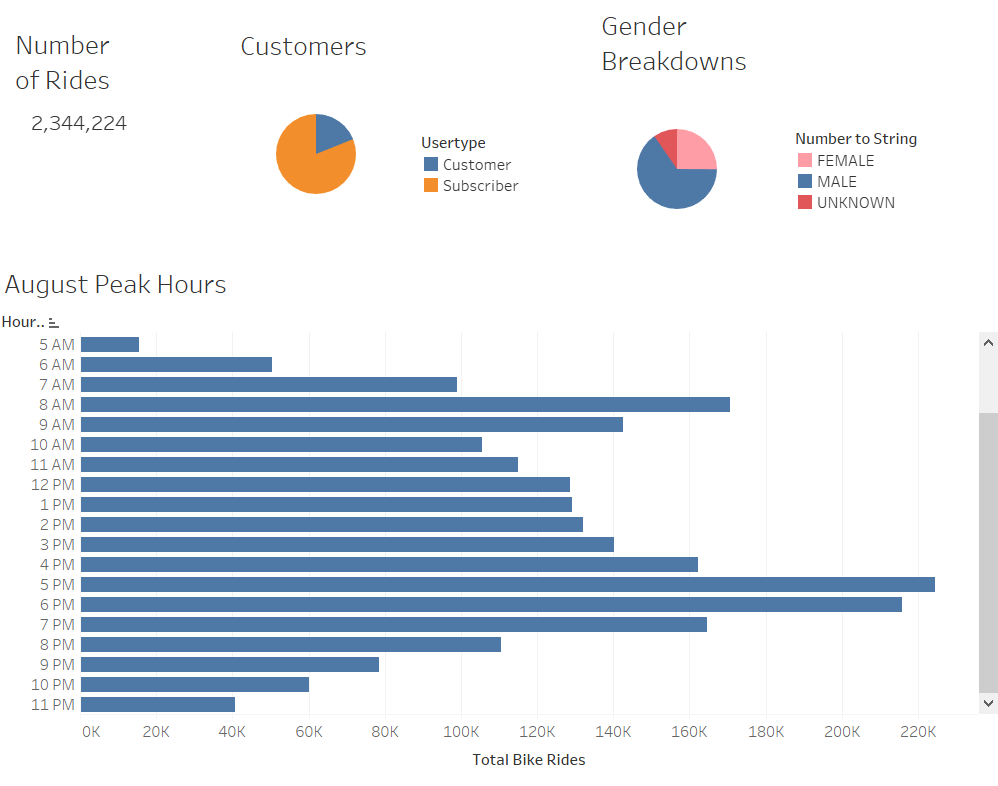

The dashboard page shown, as its layout file describes it:
{"tool":"tableau","page":{"name":"NYC Citi Bike","canvas":[1000,800],"ordinal":0},"visuals":[{"type":"worksheet","title":"August Peak Hours","mark":"Bar","rows":["starttime"],"cols":["dev1.csv_BA9C22B0E2424A87835480C587EEEB83"],"box":[6,11,999,515]},{"type":"worksheet","title":"Gender Breakdowns","mark":"Pie","box":[610,532,333,266]},{"type":"worksheet","title":"Customers","mark":"Pie","box":[238,555,255,224]},{"type":"worksheet","title":"Number of Rides","mark":"Automatic","box":[17,559,212,128]},{"type":"worksheet","title":"Gender Breakdowns","mark":"Pie","param":"[federated.1rkk1j615bv29d116gdp216prjjd].[none:Calculation_537617242172862464:nk","box":[797,645,150,94]},{"type":"worksheet","title":"Customers","mark":"Pie","param":"[federated.1rkk1j615bv29d116gdp216prjjd].[none:usertype:nk]","box":[417,648,140,64]}]}

Visuals, with their boxes in screenshot pixels (x1, y1, x2, y2), scaled from the page's 1000x800 canvas onto the 998x786 screenshot:
"August Peak Hours" worksheet (Bar marks): 6:11:997:517
"Gender Breakdowns" worksheet (Pie marks): 609:523:941:784
"Customers" worksheet (Pie marks): 238:545:492:765
"Number of Rides" worksheet: 17:549:229:675
"Gender Breakdowns" worksheet (Pie marks): 795:634:945:726
"Customers" worksheet (Pie marks): 416:637:556:700
